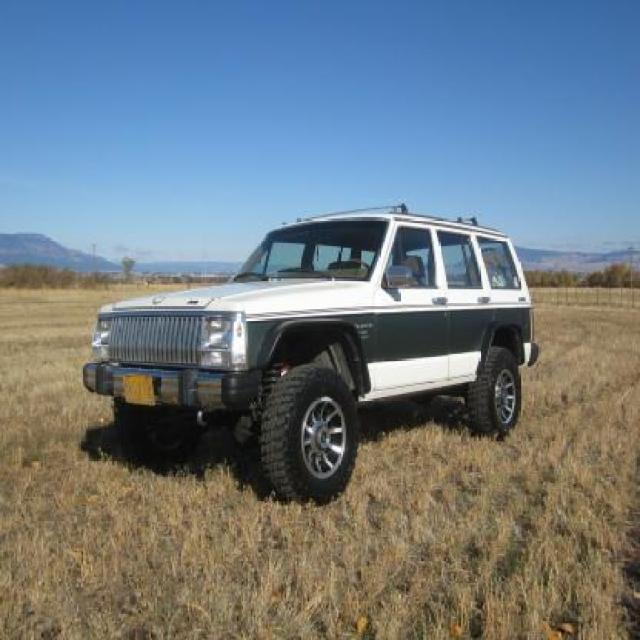Jeep: (81, 197, 546, 505)
